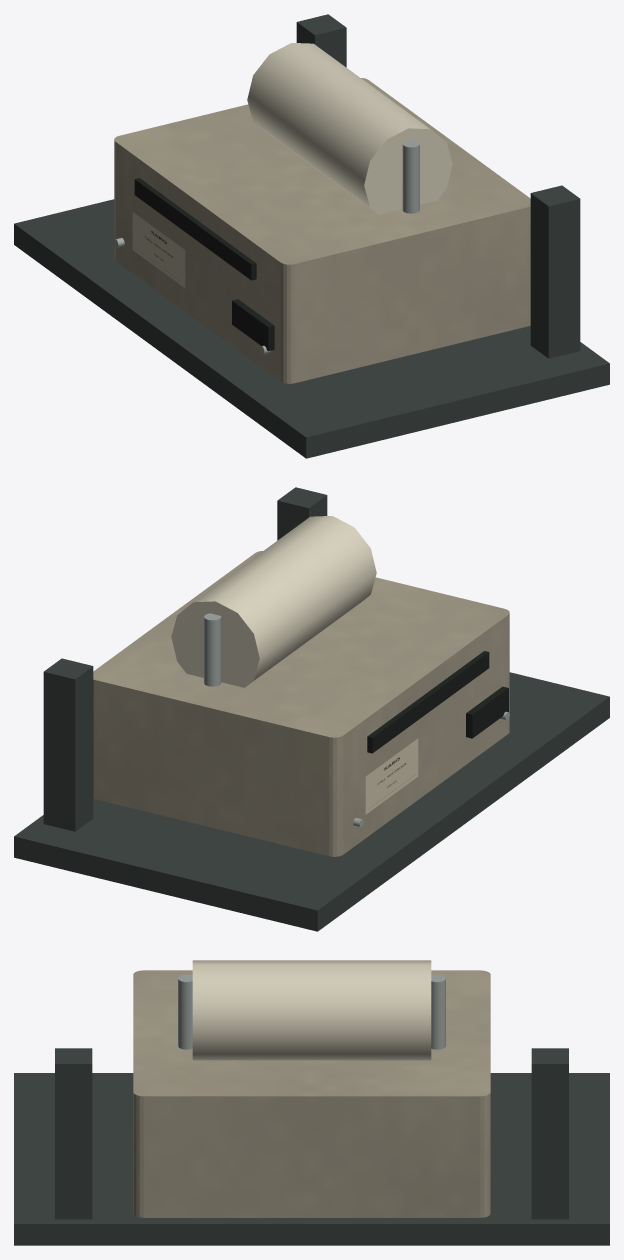
File: SM_ArchiveProps_CallRecorder.glb
3 views of the same model, one above another, from view 1: azimuth 30°, elevation 25°; view 2: azimuth 150°, elevation 25°; view 3: azimuth 270°, elevation 25° (orthographic).
Visible parts, largest first — view 1: SM_ArchiveProps_CallRecorder; view 2: SM_ArchiveProps_CallRecorder; view 3: SM_ArchiveProps_CallRecorder.
Part boxes in pixels (x1=…): SM_ArchiveProps_CallRecorder: x1=14, y1=14, x2=609, y2=458; SM_ArchiveProps_CallRecorder: x1=14, y1=487, x2=609, y2=931; SM_ArchiveProps_CallRecorder: x1=14, y1=960, x2=609, y2=1245.
Size of the model in its own units: 0.24 by 0.166 by 0.4.
Materials: 6 (2 with a texture image).
